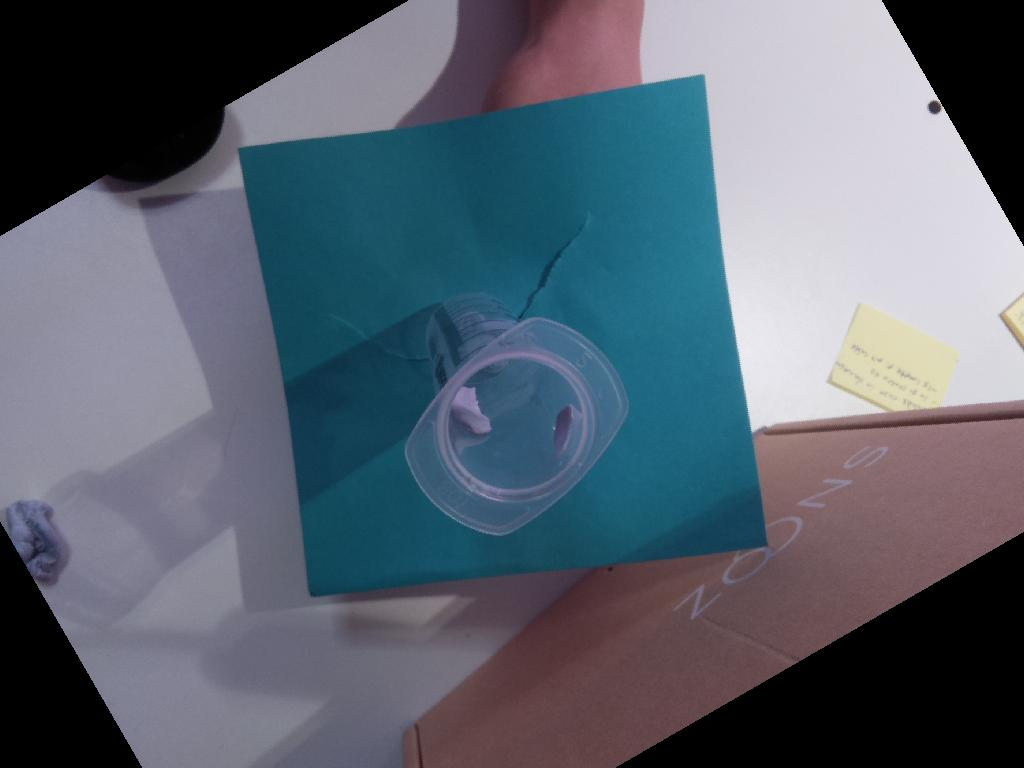dirty: (405, 314, 630, 536)
